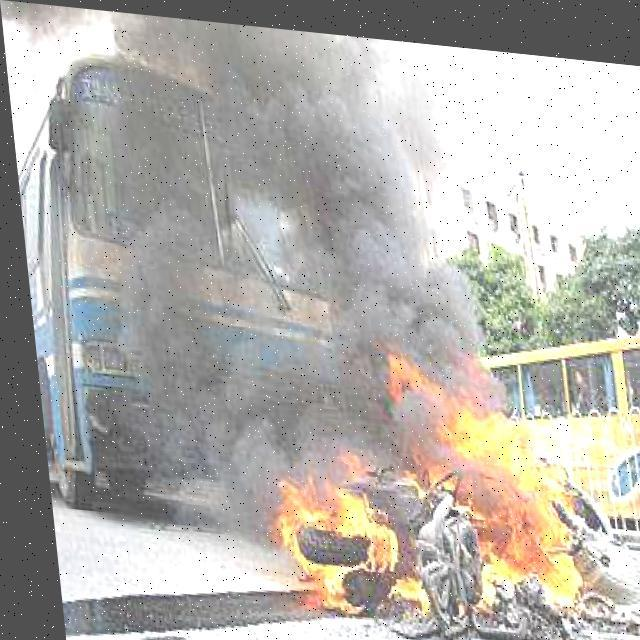Fire: (250, 318, 599, 628)
